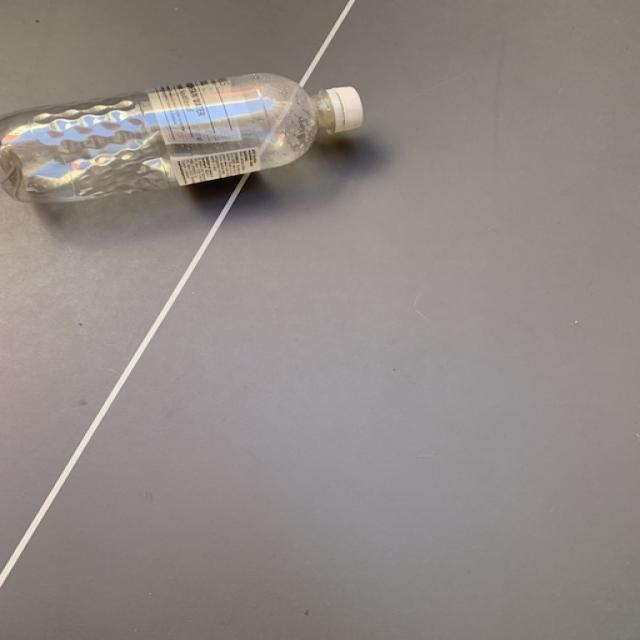Waste: (1, 72, 359, 203)
